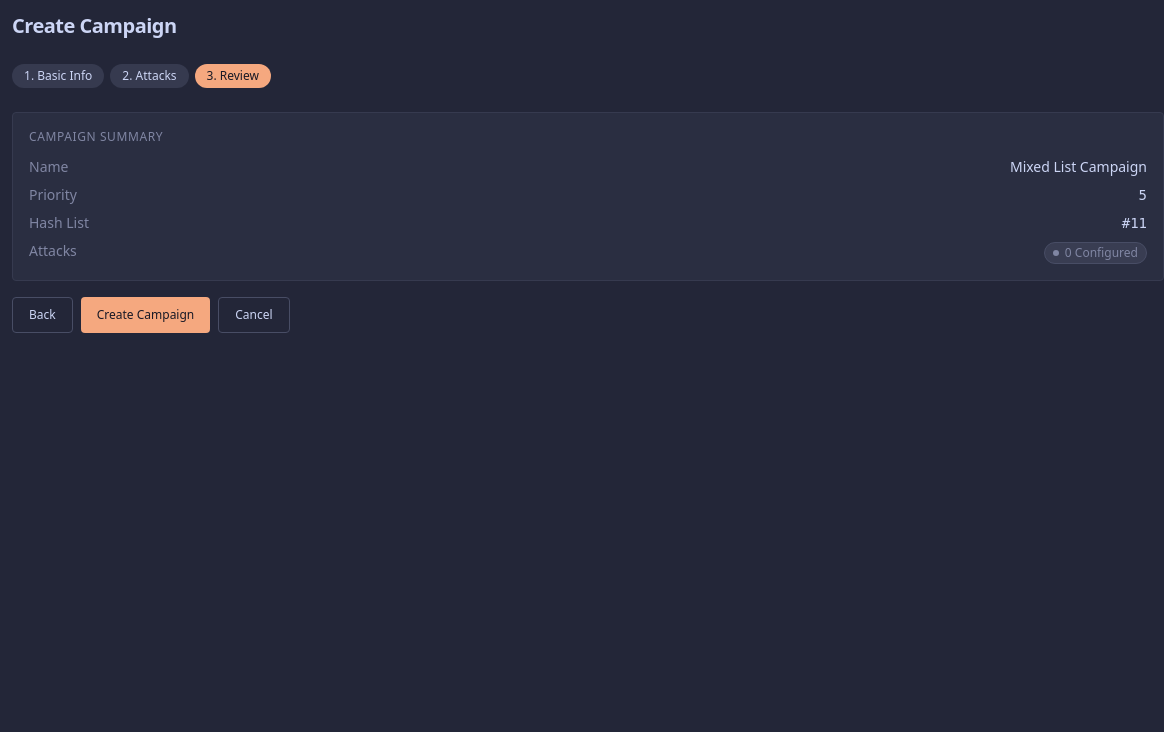
Scenario: CampaignCreatePage split-review flow (issue #202 SU6) › renders the split review UI (not a created campaign) when POST /campaigns returns 200
This screenshot has width=1164, height=732.
Click the button "Create Campaign". click: (146, 315)
box: [81,297,210,333]
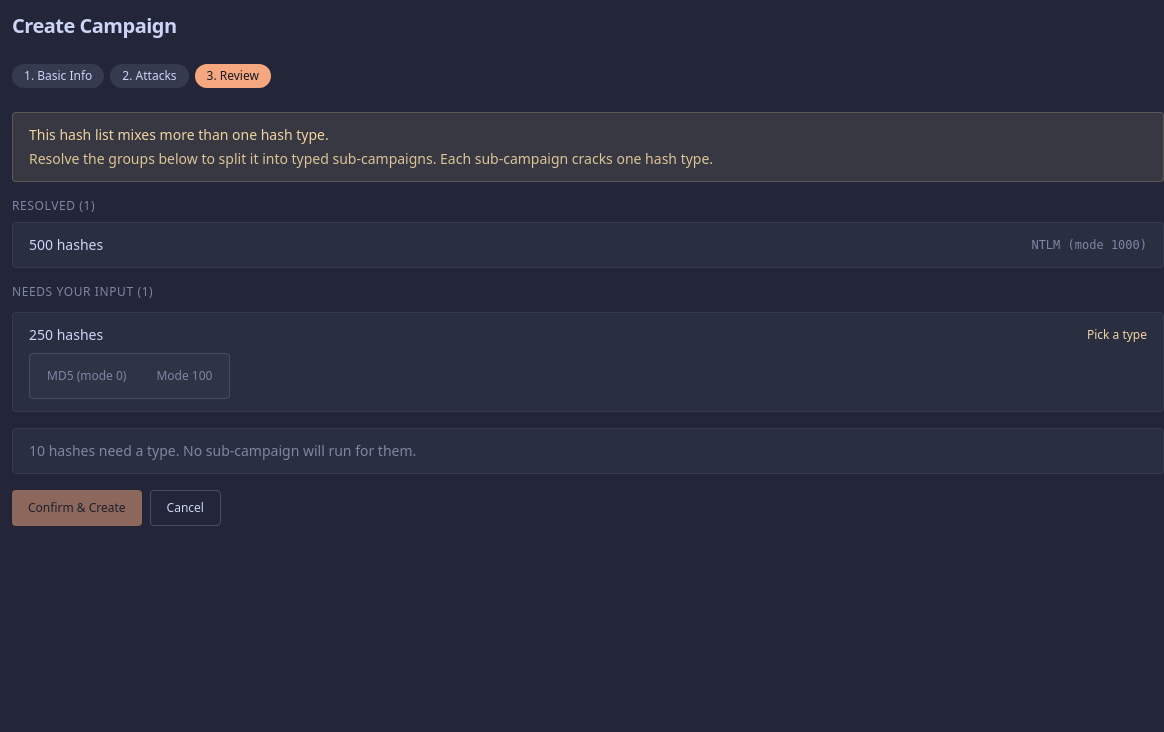
Result: the text "This hash list mixes more than one hash type." is shown at [29,125,329,144]
Result: the text "500 hashes" is shown at [29,235,103,255]
Result: the text "250 hashes" is shown at [29,325,103,345]
